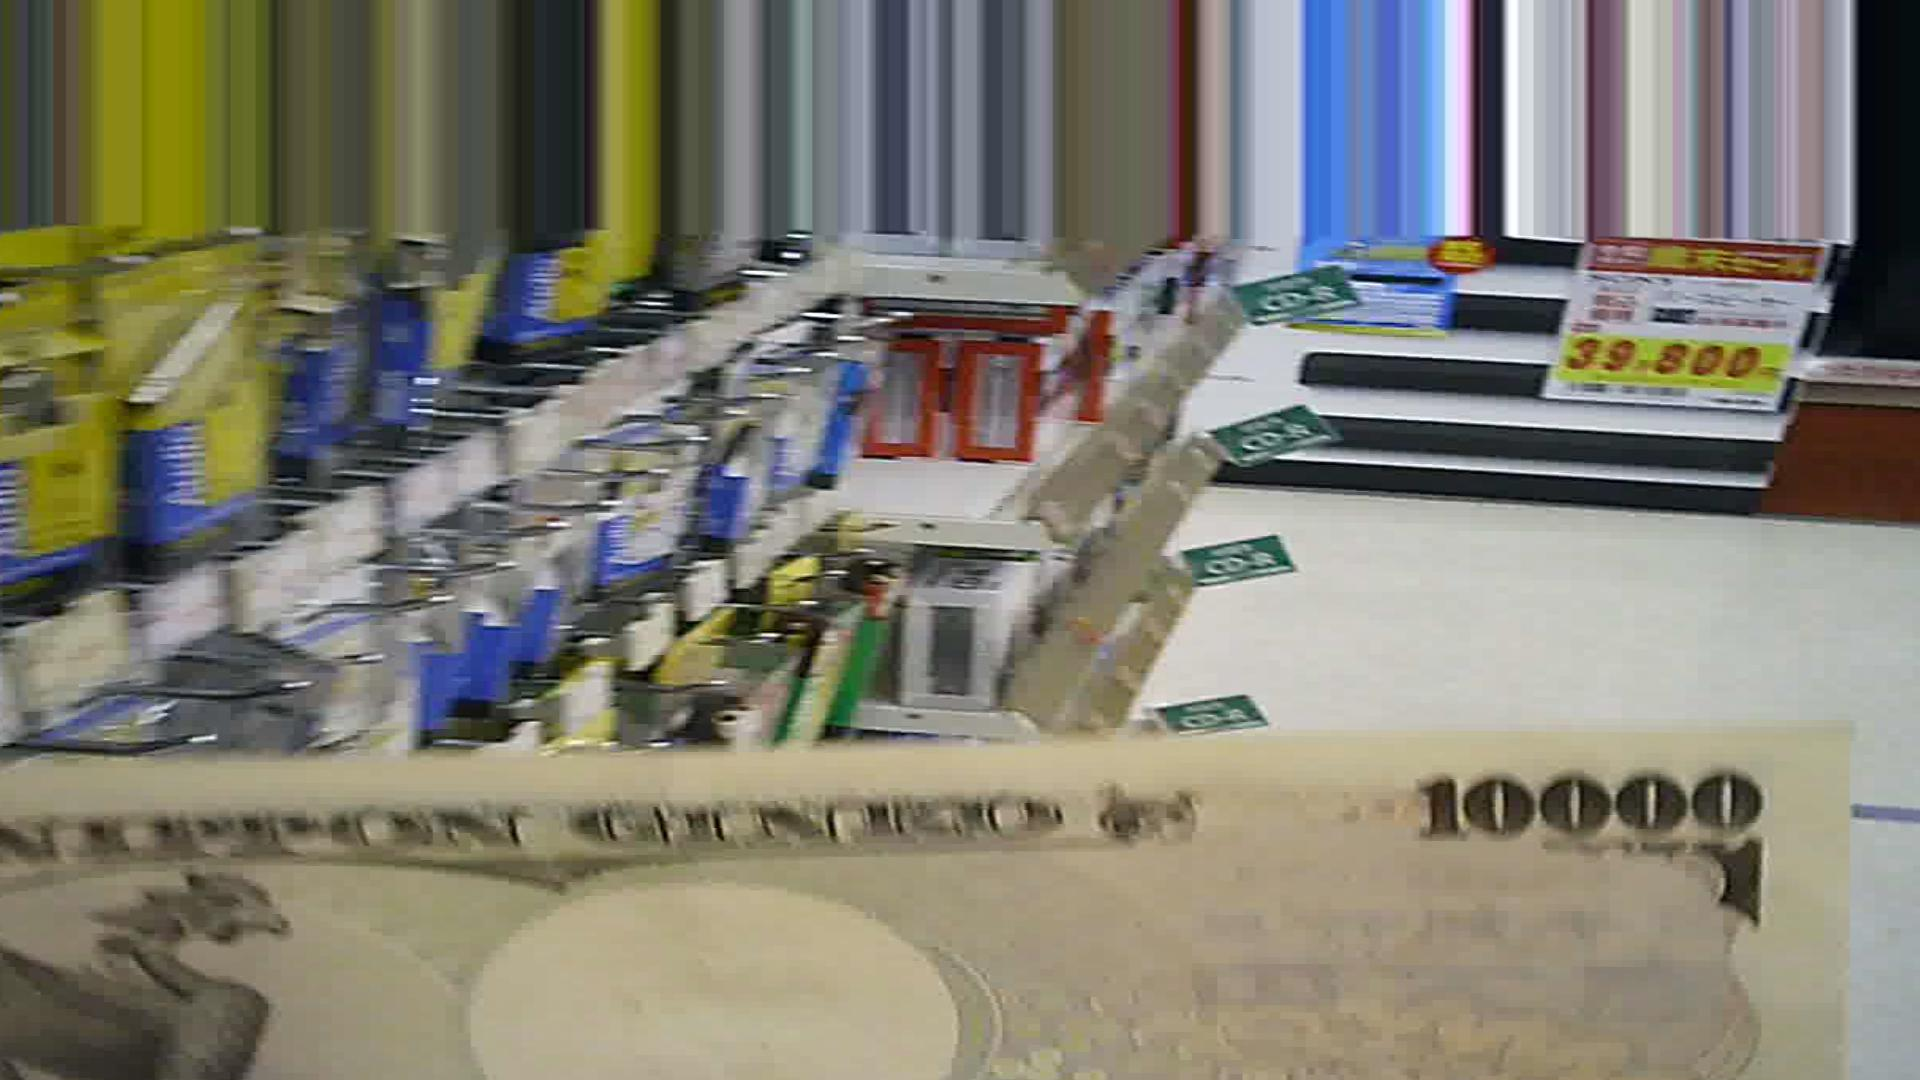10,000 Yen: (76, 705, 1920, 1069)
